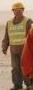boots: (10, 83, 22, 89), (1, 1, 1, 1)
gloves: (1, 0, 1, 0), (1, 1, 1, 1)
hard-hat: (11, 0, 24, 9)
vest: (5, 17, 25, 45)
